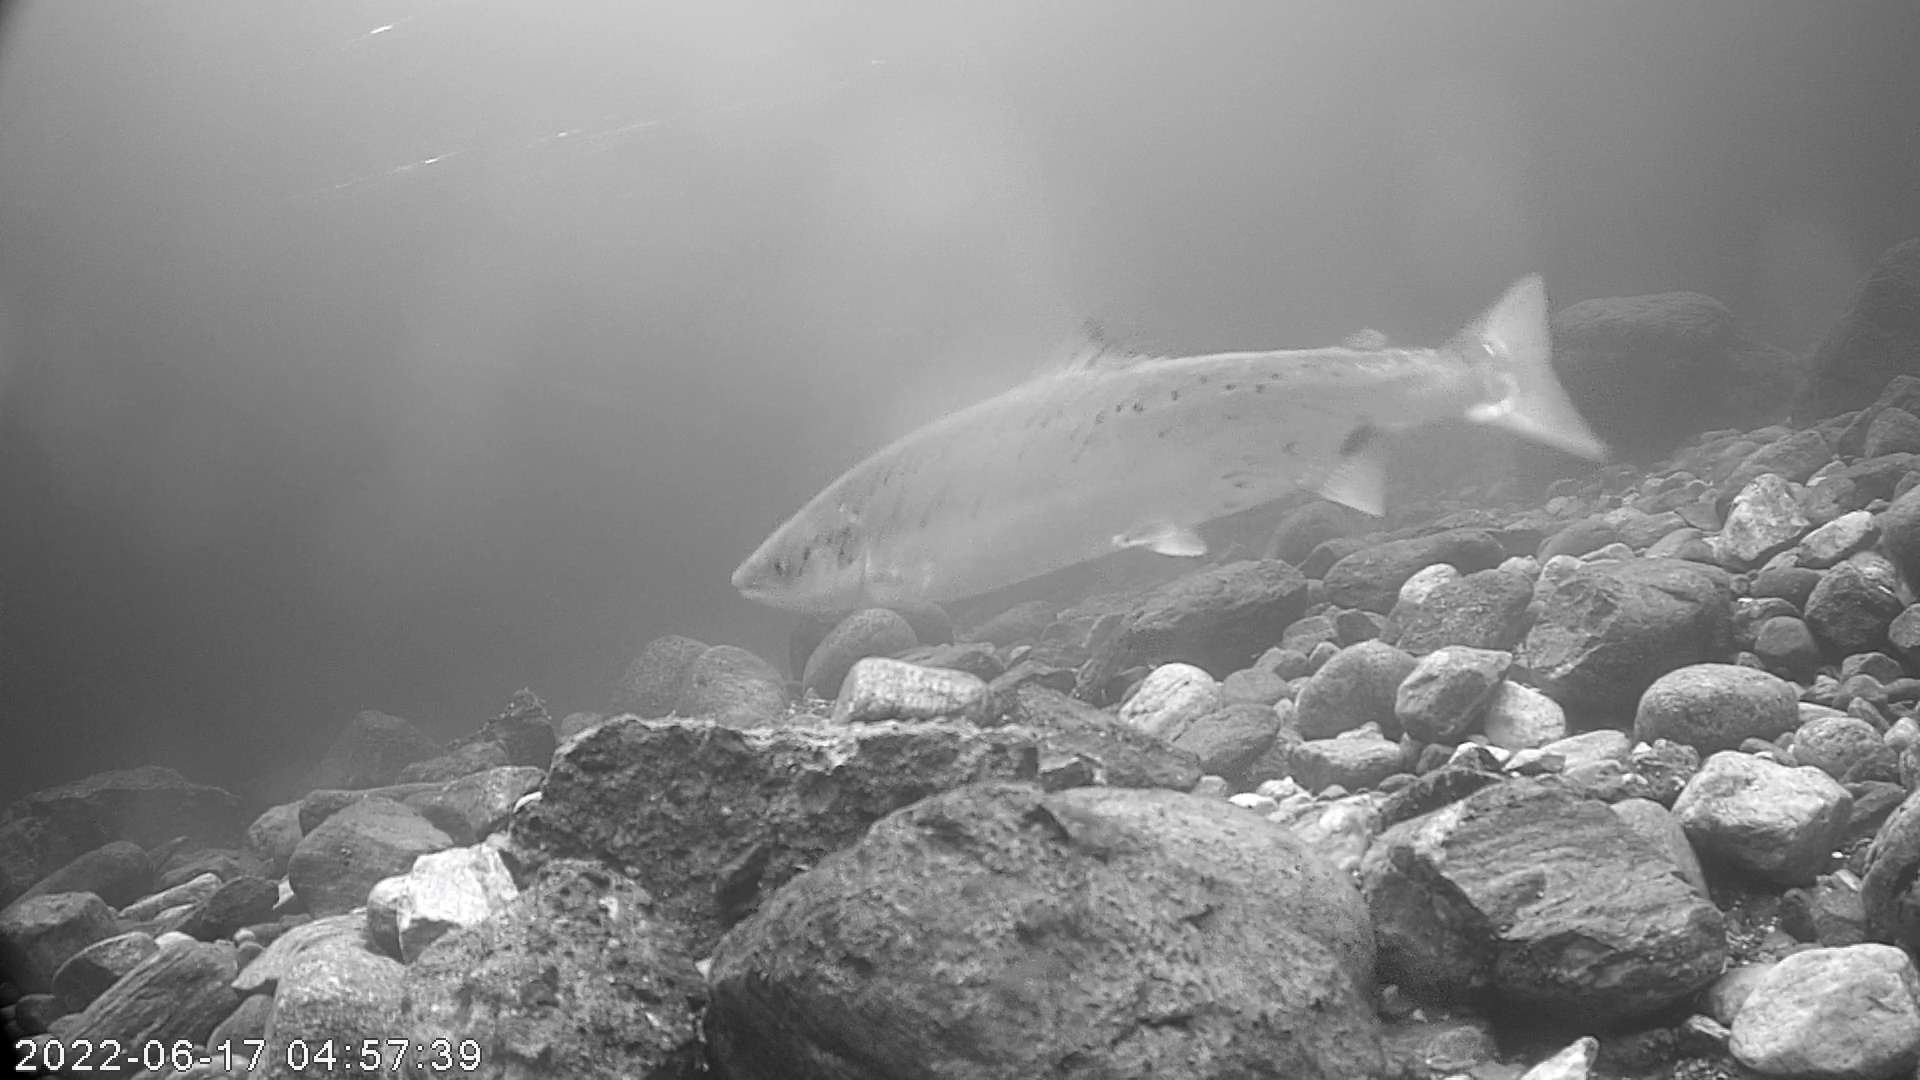salmon: (727, 268, 1607, 618)
